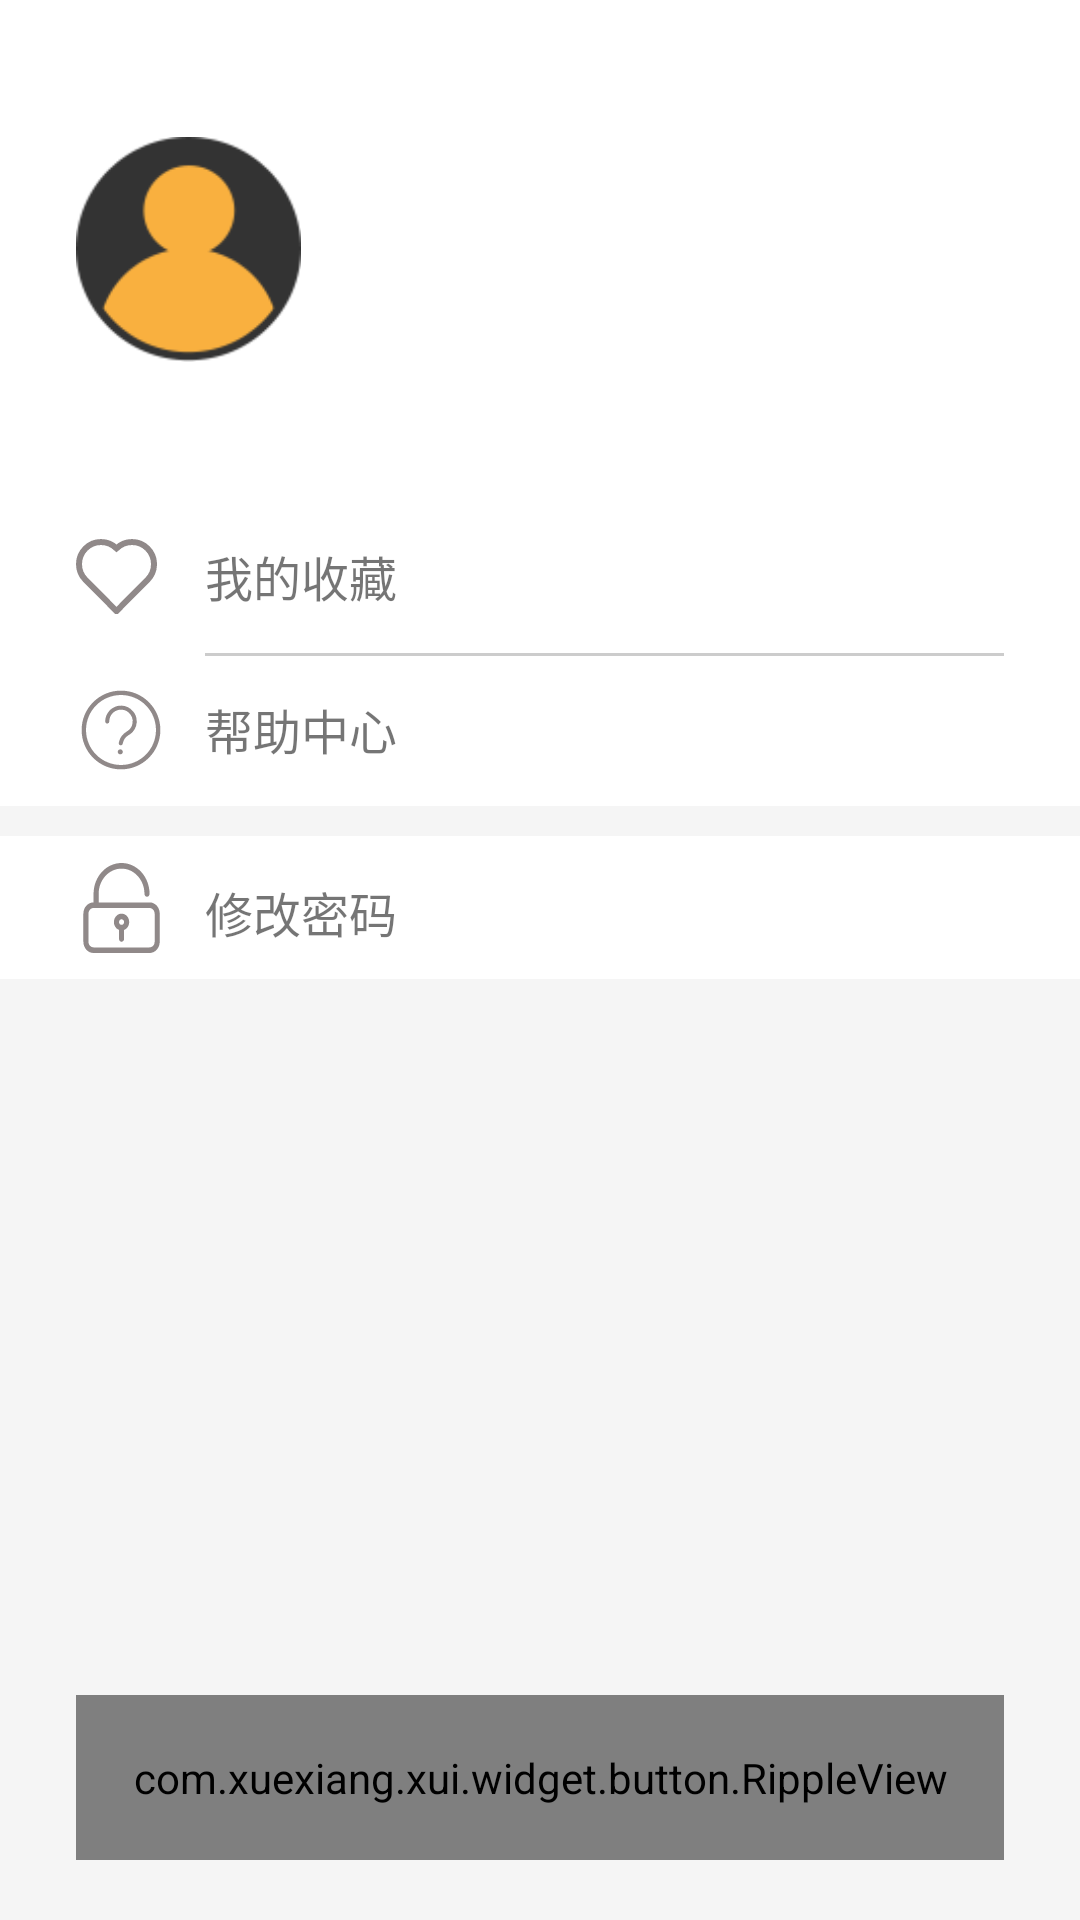

Locate icon controls on the screen. Image size 1080px×1920px, boxes as (x1, y1, x2, y2).
aixin: (76, 539, 157, 614)
changpwd: (83, 863, 160, 953)
help: (81, 690, 161, 770)
touxiang: (76, 137, 301, 362)
